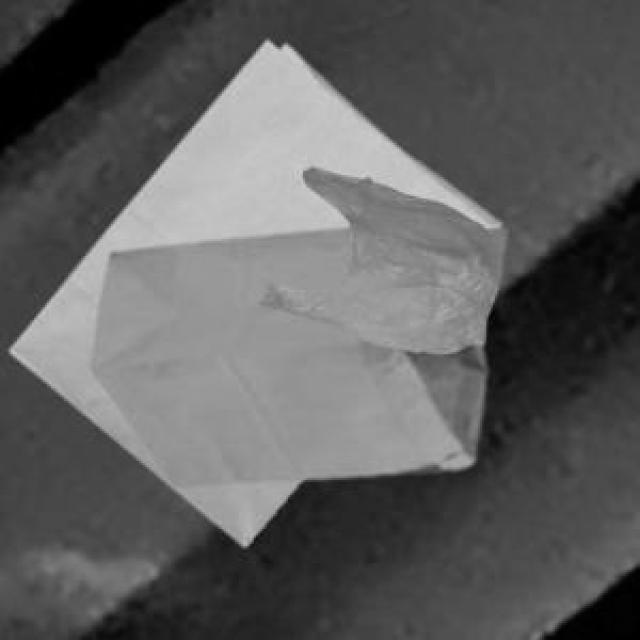paper: (6, 38, 497, 542), (88, 224, 482, 482)
